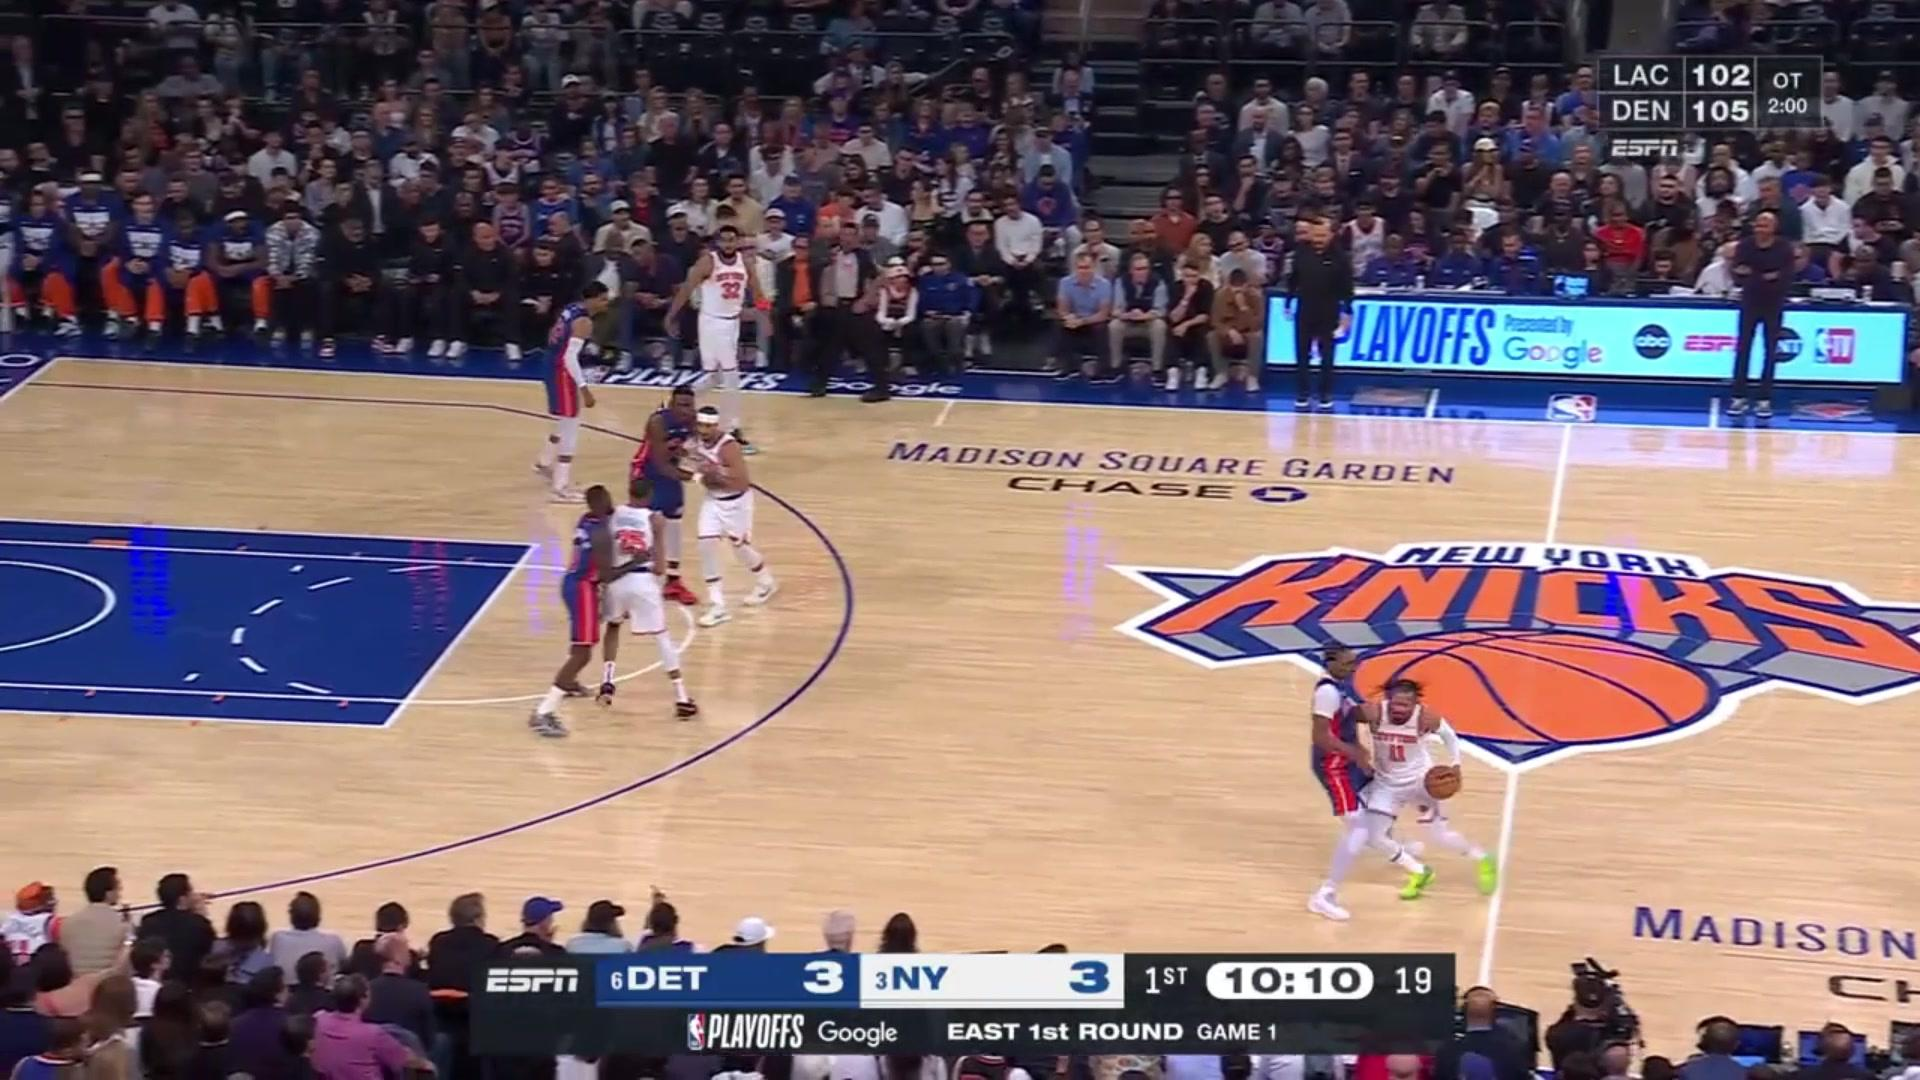foul: (1286, 621, 1535, 922)
